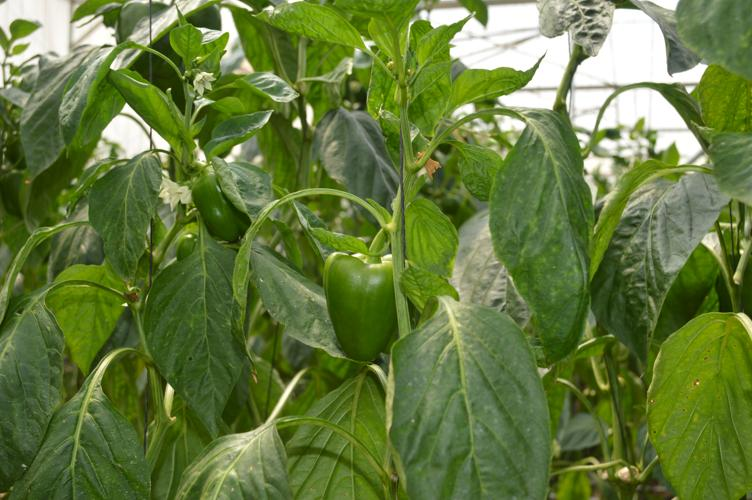BellPepper: (318, 251, 397, 363), (188, 172, 250, 241)
